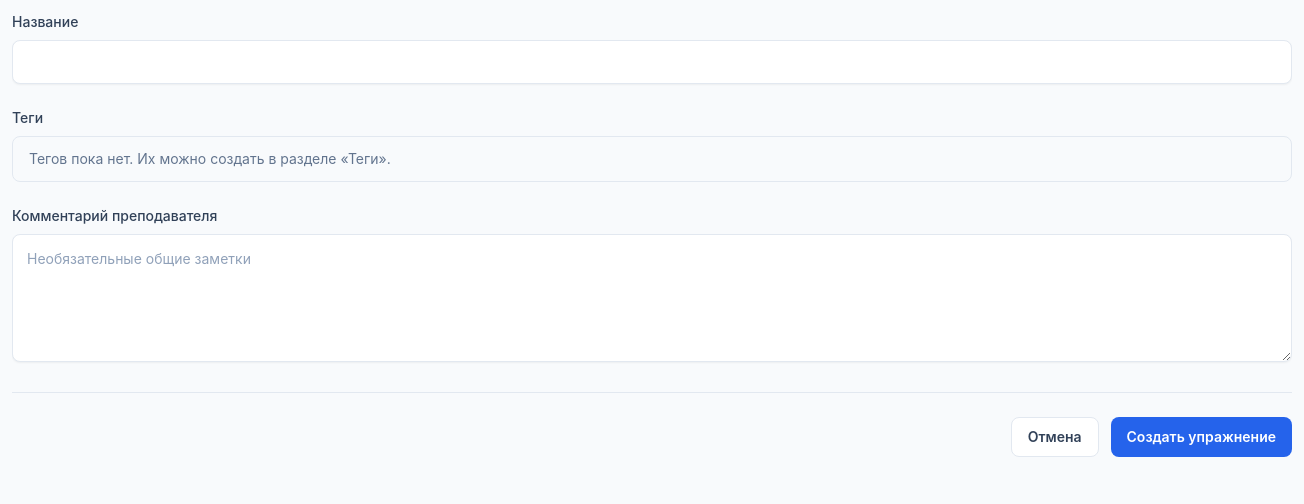
Test: форма упражнения › не отправляет пустое название и показывает ошибку на русском
Step 1. Click the button "Создать упражнение" → [1201, 437], box [1110,417,1292,457]
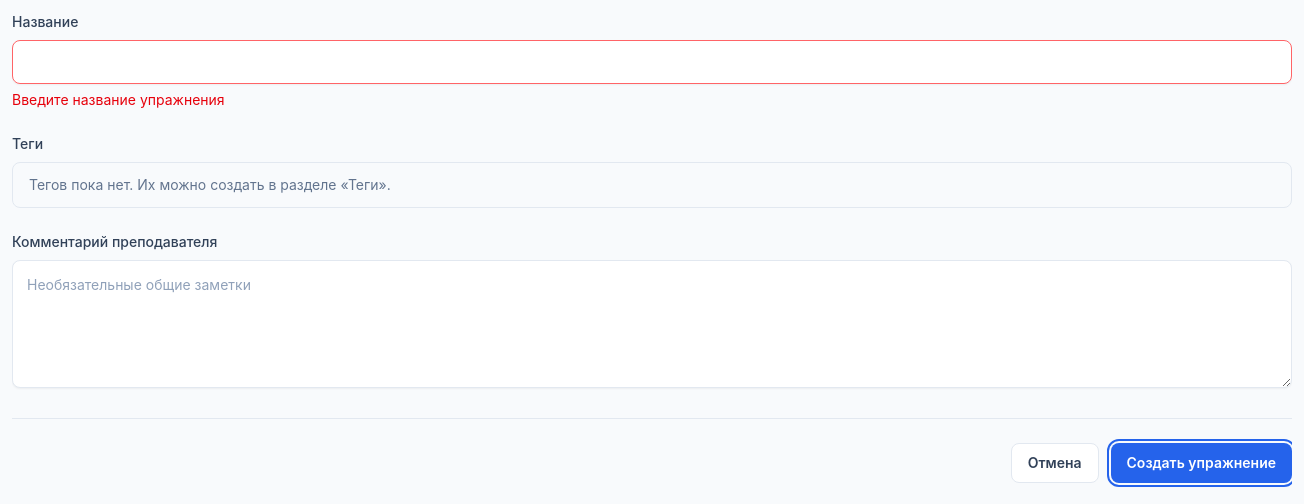
Now the text "Введите название упражнения" is shown, box [12,91,225,108]
